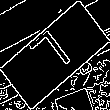L_SE: (29, 26, 81, 84)
